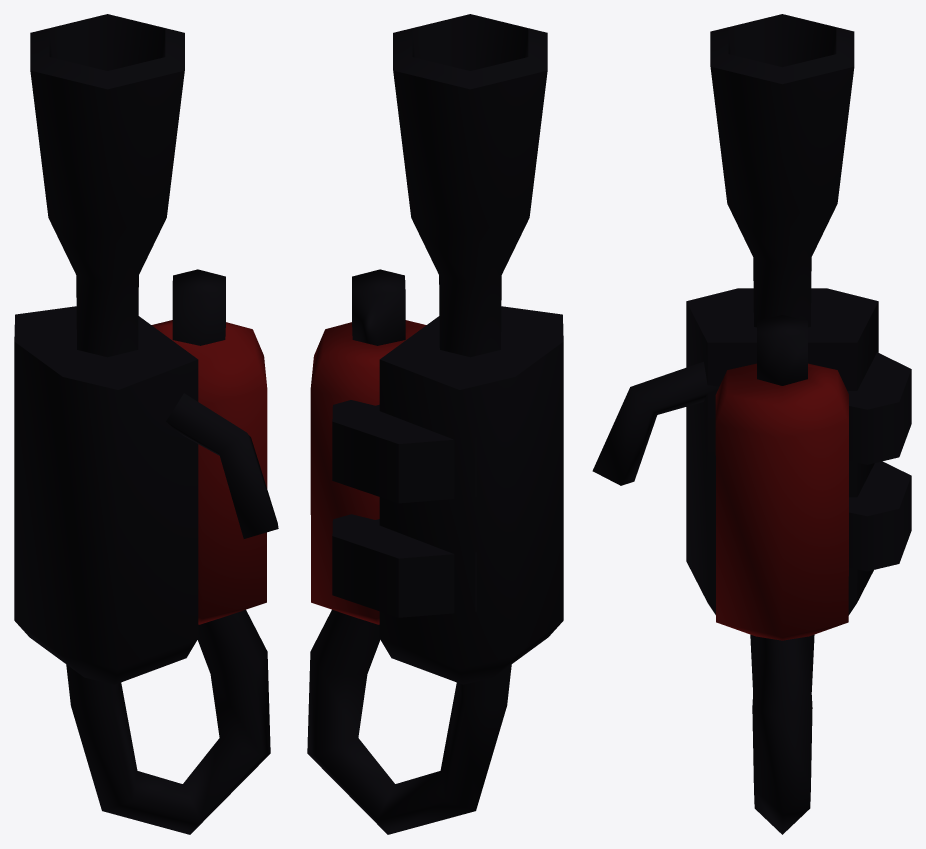
File: 01_player_F_1_W.FBX
3 views of the same model, side by side, from view 1: azimuth 30°, elevation 25°; view 2: azimuth 150°, elevation 25°; view 3: azimuth 270°, elevation 25° (orthographic). The views are drawn at different scales.
Visible parts, largest first — view 1: 01_player_F_1; view 2: 01_player_F_1; view 3: 01_player_F_1.
Part boxes in pixels (<box>): 01_player_F_1: <box>14,14,278,834</box>; 01_player_F_1: <box>307,14,563,834</box>; 01_player_F_1: <box>592,14,911,834</box>.
Size of the model in its own units: 39.89 by 129 by 49.25.
